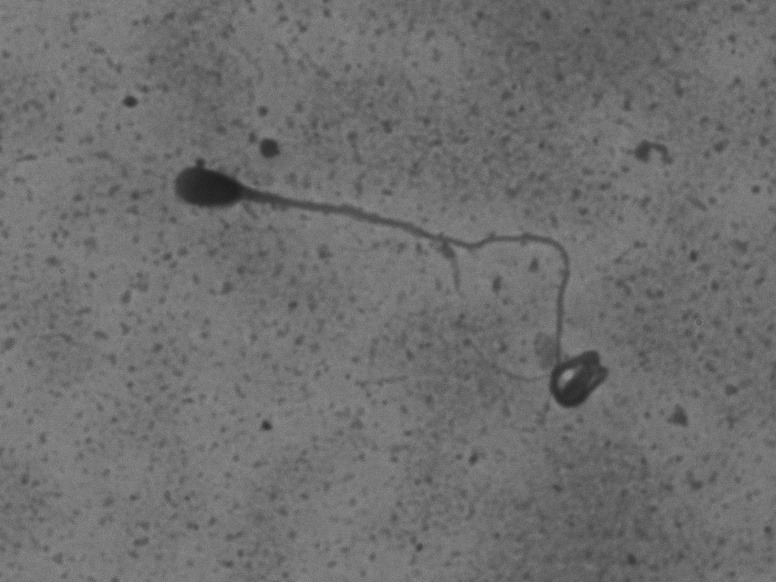Abnormal: (167, 144, 578, 434)
